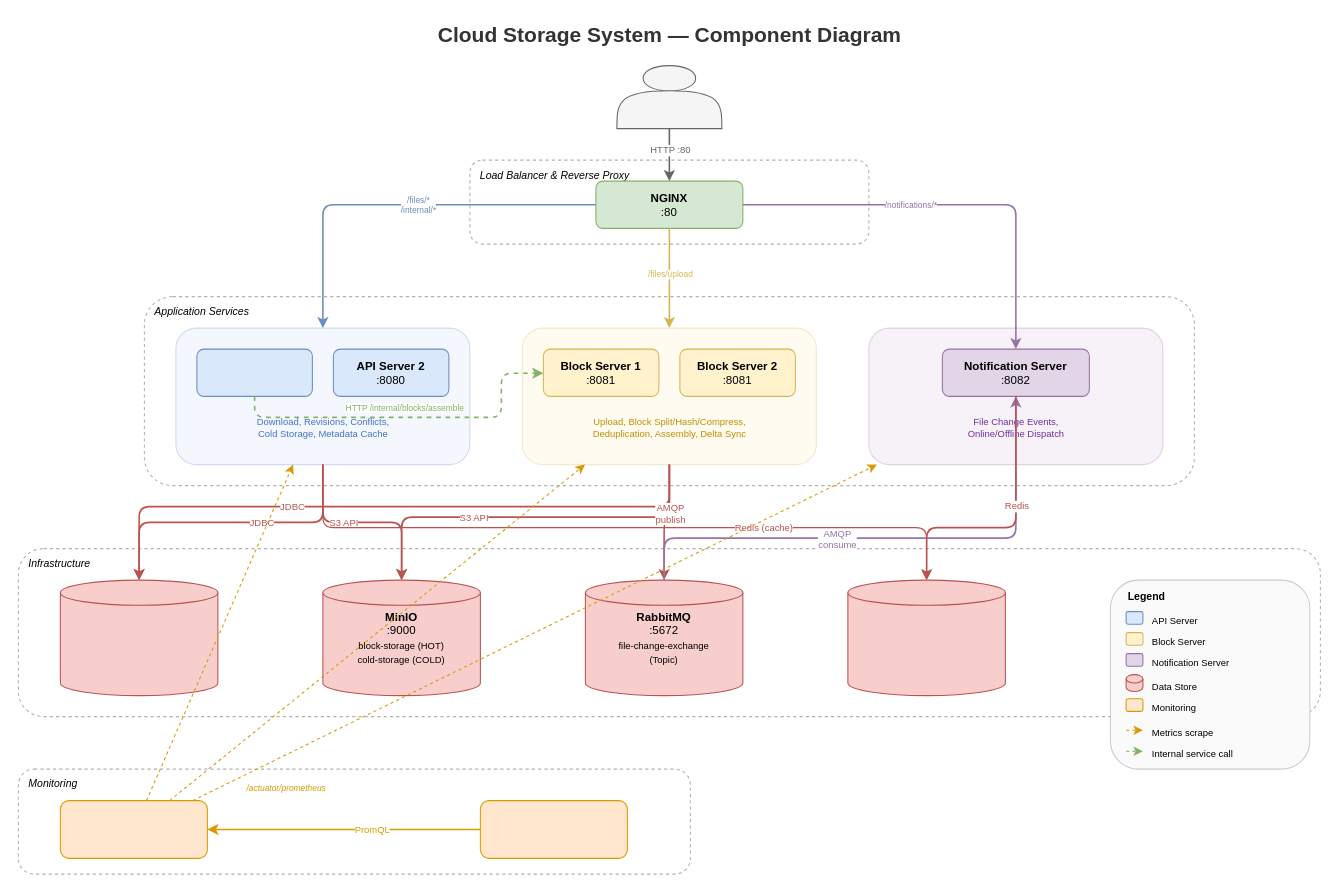
Some shapes in this 1339 by 892 pixel diagram are drawn without their labels. The centre of each missing label's shape, as x and y in pixels:
API Server 1 :8080: point 254,372
Clients (Browser / CLI / Load Client): point 669,97
Grafana :3000 Cloud Storage Overview: point 553,829
PostgreSQL :5432 Files, Versions, Blocks, Conflicts, Users: point 138,637
Prometheus :9090 Scrape interval: 15s: point 133,829
Redis :6379 Online status, Notification queues: point 926,637
